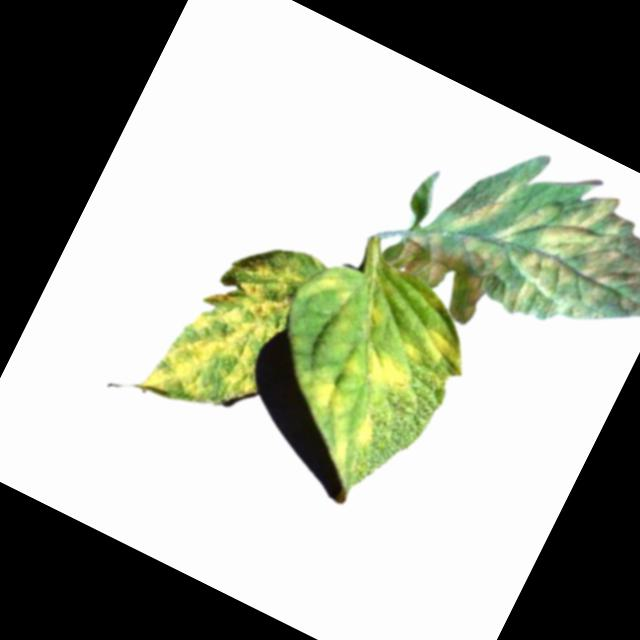Leaf_Mold: (396, 115, 640, 384), (136, 204, 319, 432), (335, 335, 418, 403), (400, 320, 475, 382), (303, 260, 360, 317), (298, 369, 354, 421), (345, 409, 383, 455)
